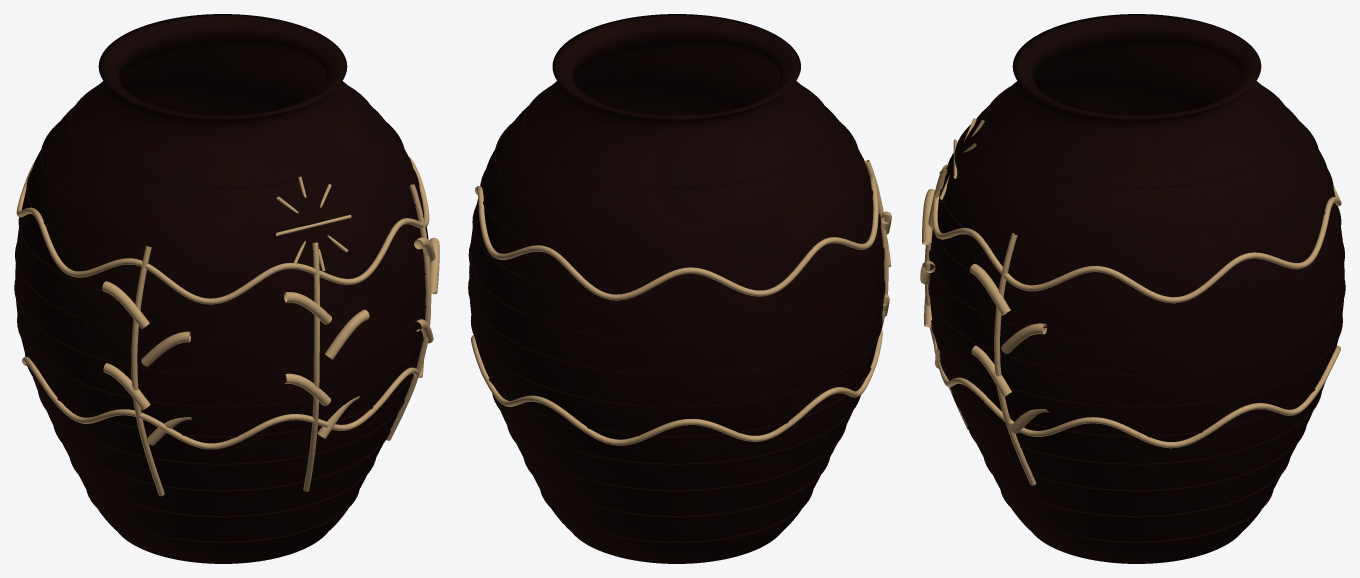
Rendered from bcm-1114.glb.
The picture shows the model from 3 angles, left to right: view 1: azimuth 30°, elevation 25°; view 2: azimuth 150°, elevation 25°; view 3: azimuth 270°, elevation 25°; orthographic projection.
Visible parts, largest first — view 1: Continuous hollow vessel with formed lip, Finger-drawn glaze motif (approximate); view 2: Continuous hollow vessel with formed lip, Finger-drawn glaze motif (approximate); view 3: Continuous hollow vessel with formed lip, Finger-drawn glaze motif (approximate).
Boxes of the visible parts, left/top/right/bottom form: Continuous hollow vessel with formed lip: left=14, top=14, right=430, bottom=563; Finger-drawn glaze motif (approximate): left=16, top=156, right=439, bottom=496; Continuous hollow vessel with formed lip: left=468, top=14, right=885, bottom=563; Finger-drawn glaze motif (approximate): left=471, top=160, right=891, bottom=445; Continuous hollow vessel with formed lip: left=928, top=14, right=1345, bottom=563; Finger-drawn glaze motif (approximate): left=920, top=118, right=1341, bottom=485.
Bounding box in the file's own units: 0.9404 × 1.12 × 0.9586.
